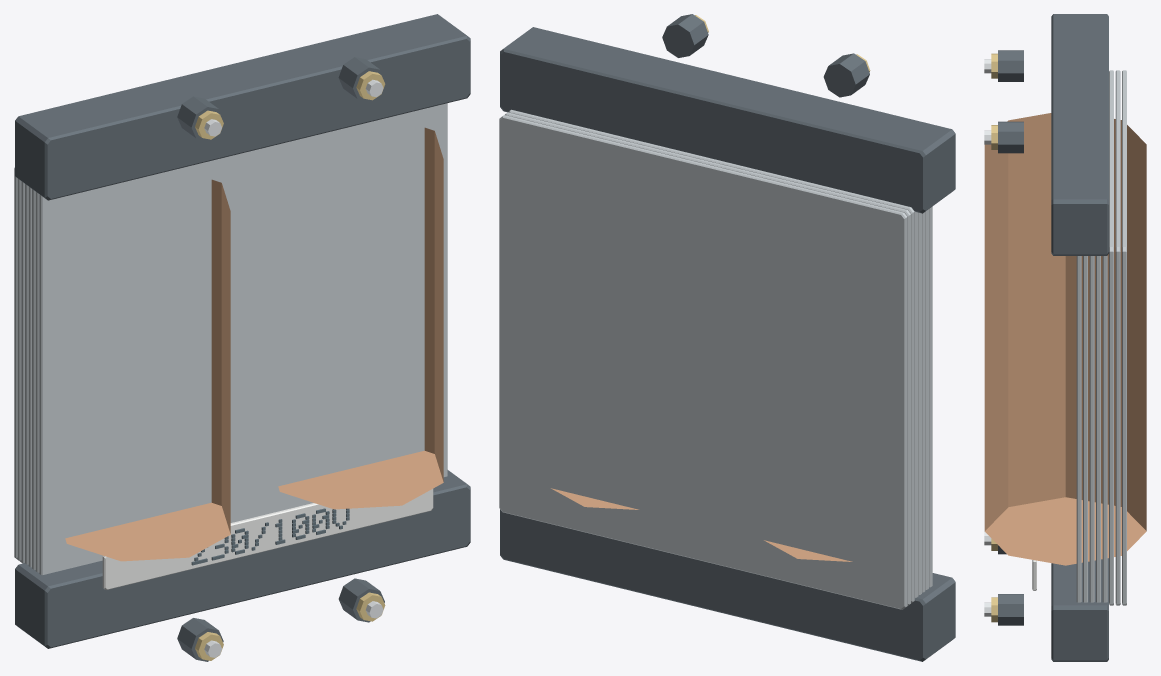
File: voltageTransformer.glb
3 views of the same model, side by side, from view 1: azimuth 30°, elevation 25°; view 2: azimuth 150°, elevation 25°; view 3: azimuth 270°, elevation 25° (orthographic). The views are drawn at different scales.
Visible parts, largest first — view 1: voltageTransformer-board; view 2: voltageTransformer-board; view 3: voltageTransformer-board.
Part boxes in pixels (<box>): voltageTransformer-board: <box>14,14,470,661</box>; voltageTransformer-board: <box>499,14,955,661</box>; voltageTransformer-board: <box>984,14,1146,661</box>.
Bounding box in the file's own units: 2.53 × 3.15 × 0.9229.
